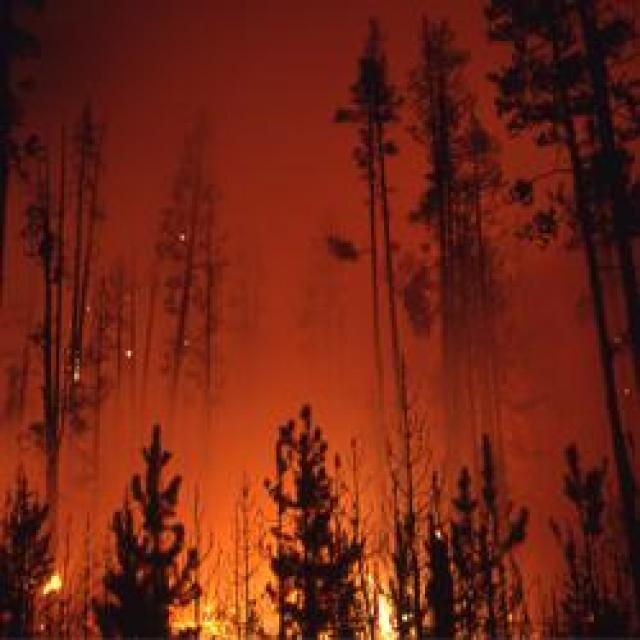fire: (143, 590, 251, 640), (359, 581, 408, 640), (31, 572, 73, 600)
